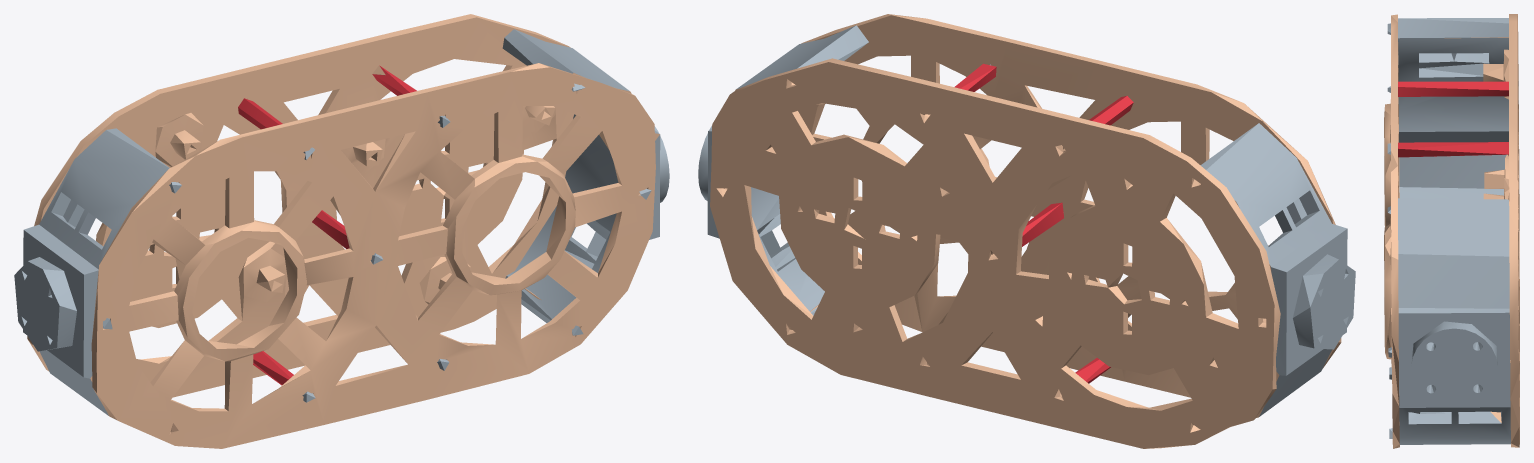
3 renders of one model, left to right at view 1: azimuth 30°, elevation 25°; view 2: azimuth 150°, elevation 25°; view 3: azimuth 270°, elevation 25°, orthographic. The views are drawn at different scales.
Parts seen in each view (by area): view 1: tmp_export_fr_link0; view 2: tmp_export_fr_link0; view 3: tmp_export_fr_link0.
Boxes of the visible parts, <box> form: tmp_export_fr_link0: <box>14,14,669,448</box>; tmp_export_fr_link0: <box>698,14,1355,448</box>; tmp_export_fr_link0: <box>1384,14,1519,448</box>.
Bounding box in the file's own units: 0.1858 × 0.0391 × 0.0903.
